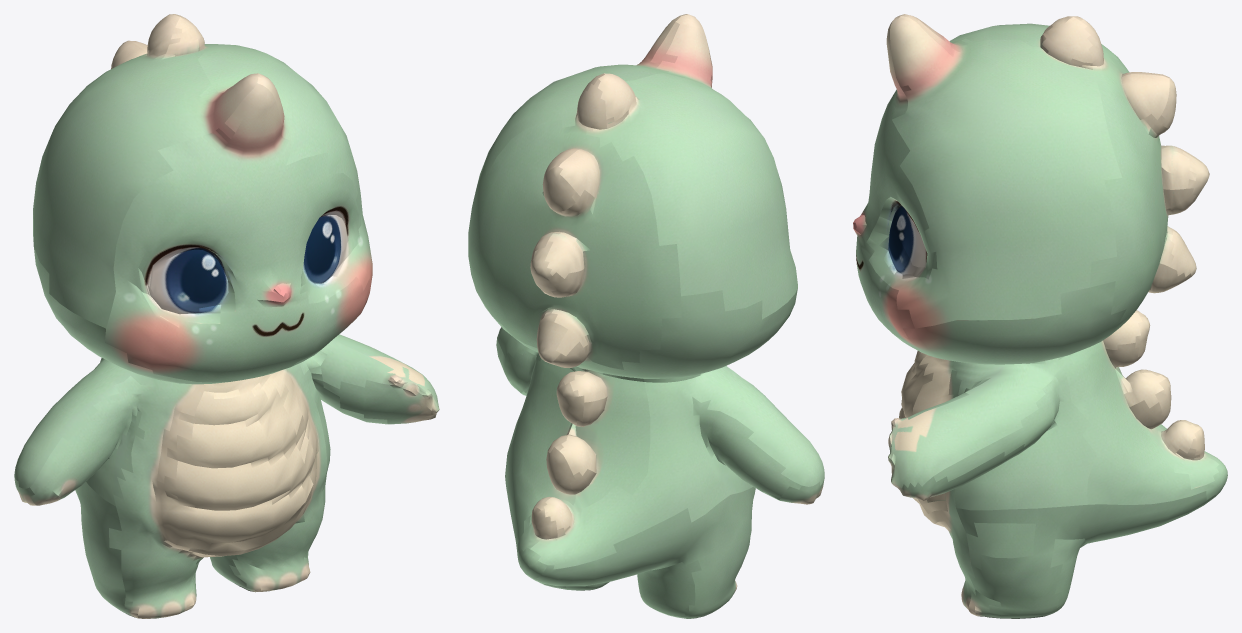
Rendered from asset_model_urls_glb.glb.
3 views of the same model, side by side, from view 1: azimuth 30°, elevation 25°; view 2: azimuth 150°, elevation 25°; view 3: azimuth 270°, elevation 25° (orthographic). The views are drawn at different scales.
Bounding box in the file's own units: 1.34 × 1.9 × 1.15.
1 material, 1 textured.
